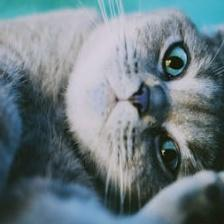kedo: (0, 8, 224, 223)
